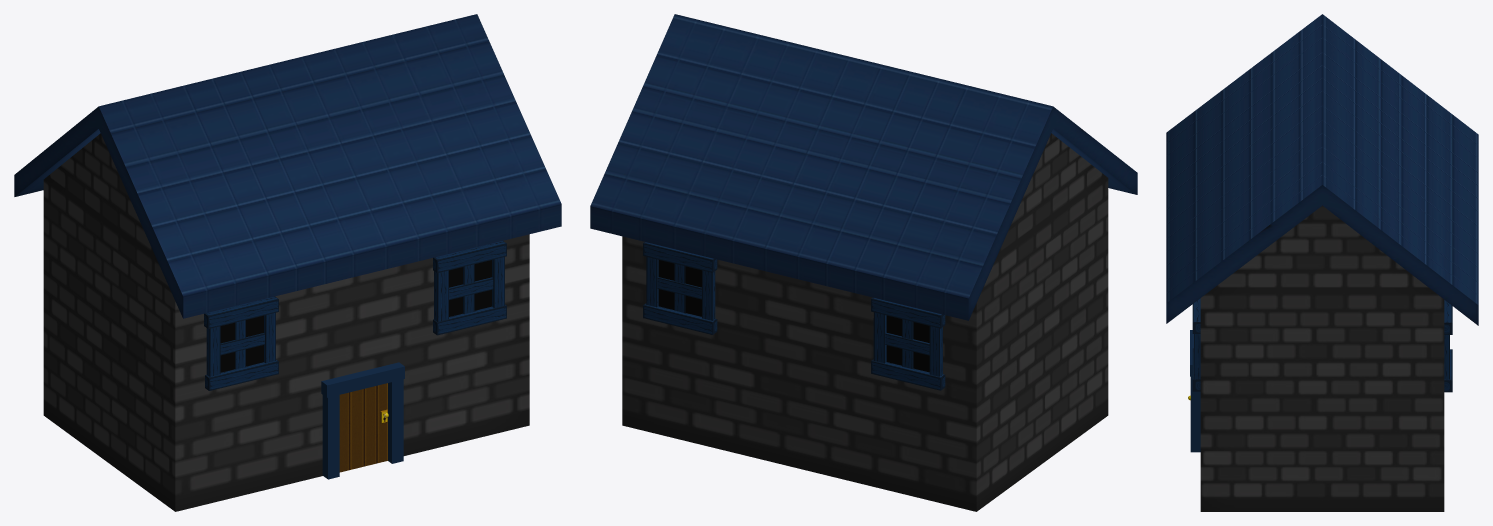
The model's file is Royal_town_house_1.fbx.
3 views of the same model, side by side, from view 1: azimuth 30°, elevation 25°; view 2: azimuth 150°, elevation 25°; view 3: azimuth 270°, elevation 25° (orthographic). The views are drawn at different scales.
Parts seen in each view (by area): view 1: polySurface66; view 2: polySurface66; view 3: polySurface66.
Part boxes in pixels (x1=…): polySurface66: x1=14, y1=14, x2=561, y2=511; polySurface66: x1=590, y1=14, x2=1137, y2=511; polySurface66: x1=1166, y1=14, x2=1478, y2=511.
Bounding box in the file's own units: 2.51 × 2.28 × 1.94.
